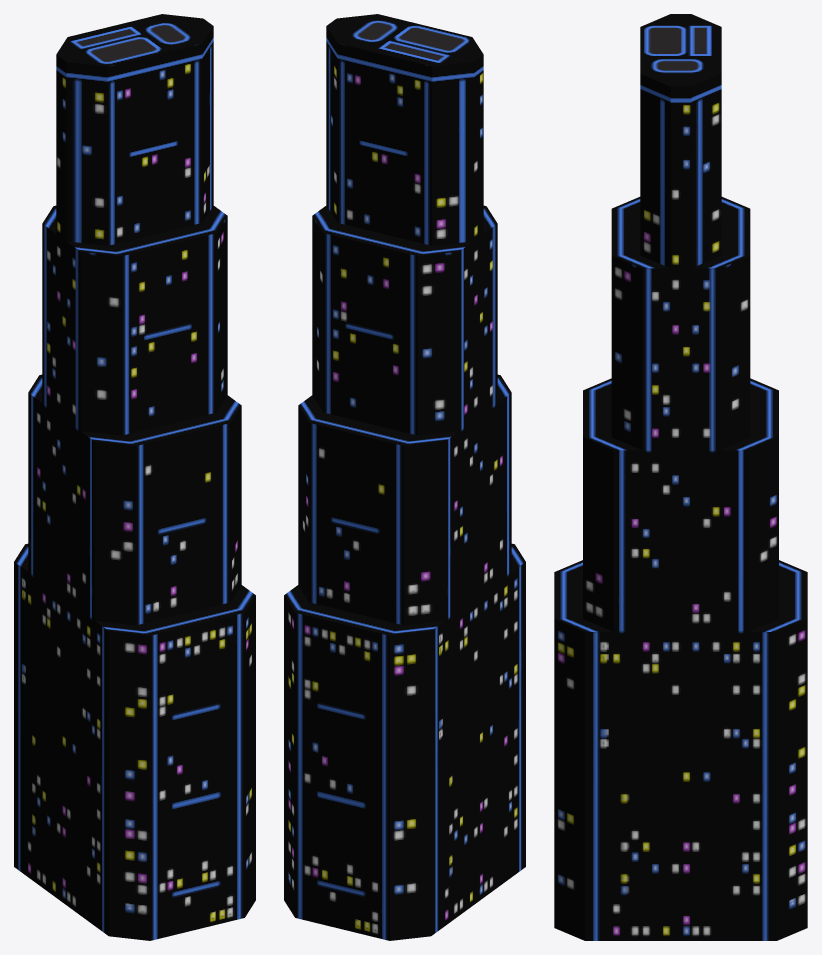
File: bldg_011.fbx
3 renders of one model, left to right at view 1: azimuth 30°, elevation 25°; view 2: azimuth 150°, elevation 25°; view 3: azimuth 270°, elevation 25°, orthographic.
Parts seen in each view (by area): view 1: bldg_011; view 2: bldg_011; view 3: bldg_011.
Part boxes in pixels (box(x1,y1,x2,y2)): bldg_011: box(14, 14, 255, 940); bldg_011: box(284, 14, 525, 940); bldg_011: box(554, 14, 807, 940).
Size of the model in its own units: 240 by 1316 by 354.
Materials: 1 (1 with a texture image).
